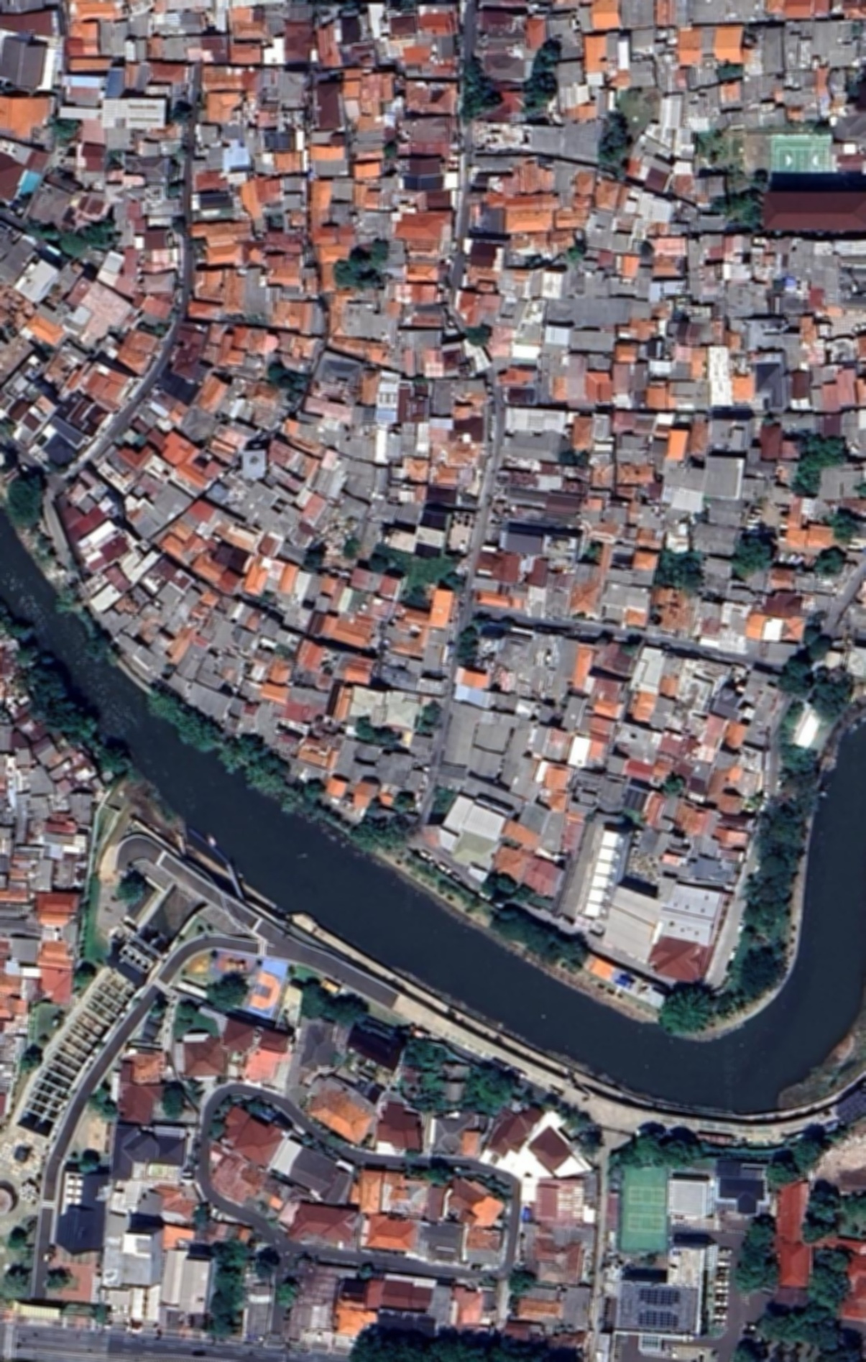building: (8, 929, 168, 1150), (496, 1112, 597, 1214), (273, 1135, 363, 1208), (302, 1071, 386, 1149), (666, 655, 730, 741), (476, 1096, 542, 1178), (53, 1167, 111, 1258), (113, 1122, 197, 1184), (601, 885, 668, 962), (618, 1280, 710, 1336), (434, 1171, 508, 1240), (215, 1105, 290, 1173), (581, 825, 633, 922), (288, 1013, 348, 1097), (368, 1099, 438, 1170), (761, 188, 866, 235), (658, 879, 729, 948), (3, 374, 65, 453), (287, 1263, 343, 1347), (198, 1145, 269, 1209), (75, 349, 141, 414), (0, 29, 65, 94), (285, 1200, 364, 1251), (527, 114, 603, 163), (54, 384, 114, 444), (346, 1017, 411, 1072), (523, 1179, 586, 1231), (14, 246, 68, 306), (432, 1112, 498, 1161), (648, 936, 712, 986), (496, 459, 587, 494), (232, 370, 298, 418), (204, 416, 260, 472), (119, 1223, 165, 1291), (79, 277, 136, 330), (716, 1158, 768, 1216), (138, 1176, 198, 1226), (165, 319, 210, 385), (235, 480, 289, 534), (113, 319, 166, 374), (26, 173, 78, 229), (462, 772, 528, 816), (546, 296, 634, 328), (647, 453, 710, 497), (37, 339, 88, 393), (744, 684, 787, 748), (0, 91, 55, 141), (440, 702, 482, 767), (497, 719, 536, 789), (164, 579, 210, 638), (531, 1238, 585, 1288), (340, 298, 400, 343), (115, 496, 170, 545), (493, 626, 533, 693), (811, 17, 863, 68), (205, 461, 255, 514), (501, 503, 580, 536), (175, 444, 227, 494), (449, 830, 498, 882), (262, 439, 319, 483), (471, 15, 528, 59), (20, 302, 70, 352), (379, 1172, 430, 1221), (398, 120, 457, 162), (467, 188, 512, 243), (361, 1214, 420, 1255), (612, 721, 664, 767), (212, 511, 265, 556), (435, 794, 475, 853), (176, 1035, 227, 1081), (309, 450, 354, 502), (101, 95, 169, 129), (476, 38, 528, 82), (439, 337, 492, 380), (114, 537, 161, 585), (627, 123, 674, 171), (775, 1178, 811, 1240), (312, 349, 365, 391), (666, 1241, 712, 1289), (46, 405, 94, 451), (761, 325, 809, 371), (348, 563, 406, 601), (241, 1272, 274, 1338), (327, 332, 393, 365), (0, 134, 53, 175), (414, 506, 452, 563), (418, 1220, 465, 1266), (670, 1173, 715, 1221), (154, 34, 228, 63), (0, 150, 35, 211), (404, 77, 460, 115), (243, 1047, 289, 1093), (143, 234, 189, 280), (464, 799, 511, 844), (809, 239, 841, 305), (385, 619, 434, 662), (332, 611, 386, 650), (569, 560, 605, 618), (383, 1274, 435, 1314), (0, 6, 63, 39), (178, 494, 224, 539), (0, 232, 39, 285), (182, 682, 231, 724), (258, 463, 307, 505), (180, 1254, 214, 1314), (264, 253, 315, 293), (150, 526, 197, 569), (340, 588, 396, 624), (755, 352, 789, 411), (175, 404, 220, 448), (685, 266, 730, 310), (521, 856, 567, 899), (190, 372, 232, 419), (503, 430, 562, 463), (495, 518, 546, 556), (504, 196, 555, 234), (151, 478, 195, 522), (335, 738, 380, 781), (70, 184, 115, 227), (383, 690, 430, 731), (394, 209, 454, 241), (0, 365, 38, 415), (334, 1307, 377, 1351), (335, 419, 379, 462), (215, 1015, 260, 1057), (341, 459, 383, 504), (116, 1083, 163, 1123), (787, 71, 826, 119), (505, 406, 569, 435), (704, 456, 746, 500), (281, 686, 327, 726), (692, 522, 743, 558), (548, 6, 583, 58), (372, 746, 414, 789), (38, 429, 81, 471), (776, 1240, 812, 1290), (155, 366, 200, 406), (189, 218, 253, 246), (475, 546, 522, 584), (525, 583, 572, 621), (369, 0, 416, 38), (121, 1047, 169, 1084), (539, 763, 575, 812), (706, 344, 734, 407), (43, 741, 87, 781), (75, 519, 119, 559), (719, 600, 751, 655), (819, 462, 864, 501), (249, 698, 284, 748), (601, 581, 654, 614), (592, 640, 638, 678), (377, 38, 435, 68), (464, 1227, 505, 1269), (475, 711, 515, 754), (632, 646, 667, 695), (313, 75, 343, 132), (400, 114, 457, 144), (474, 121, 529, 152), (710, 80, 741, 135), (417, 0, 464, 36), (690, 196, 731, 237), (218, 388, 258, 430), (202, 63, 262, 91), (531, 723, 574, 762), (755, 632, 798, 671), (690, 854, 739, 888), (782, 18, 814, 70), (657, 589, 693, 635), (450, 1285, 485, 1332), (492, 844, 532, 885), (137, 555, 177, 596), (554, 78, 597, 116), (695, 599, 727, 650), (829, 1086, 866, 1130), (423, 627, 455, 677), (140, 184, 181, 223), (709, 417, 753, 453), (359, 92, 403, 128), (513, 297, 546, 345), (822, 367, 858, 411), (431, 438, 482, 469), (303, 392, 354, 423), (60, 467, 99, 507), (118, 432, 157, 472), (66, 506, 107, 544), (712, 686, 754, 723), (635, 189, 677, 226), (242, 553, 275, 600), (584, 207, 620, 250), (512, 756, 547, 800), (297, 738, 341, 773), (333, 652, 377, 687), (161, 1248, 188, 1305), (839, 250, 866, 307), (538, 810, 572, 855), (570, 770, 604, 815), (244, 270, 274, 321), (574, 267, 619, 301), (140, 383, 180, 421), (673, 801, 710, 842), (347, 147, 389, 183), (461, 258, 503, 294), (462, 236, 506, 270), (585, 672, 630, 705), (98, 527, 137, 565), (349, 686, 385, 727), (174, 642, 210, 683), (0, 331, 36, 372), (537, 334, 572, 376), (591, 170, 625, 213), (375, 371, 403, 423), (63, 71, 104, 106), (95, 246, 130, 287), (355, 207, 397, 241), (785, 238, 819, 280), (352, 1167, 383, 1213), (195, 1220, 252, 1245), (65, 50, 114, 79), (750, 233, 779, 282), (794, 703, 824, 750), (284, 19, 316, 63), (308, 712, 346, 749), (273, 597, 312, 633), (487, 314, 518, 359), (399, 380, 432, 422), (77, 142, 110, 184), (477, 0, 519, 33), (111, 202, 141, 248), (31, 729, 69, 765), (470, 156, 509, 191), (39, 968, 73, 1008), (323, 683, 356, 724), (213, 543, 254, 576), (644, 153, 677, 194), (675, 0, 727, 26), (125, 154, 170, 184), (36, 914, 82, 943), (377, 525, 420, 556), (270, 296, 307, 332), (529, 264, 566, 300), (562, 189, 598, 226), (22, 764, 56, 803), (60, 299, 94, 338), (845, 1256, 866, 1319), (685, 413, 712, 462), (659, 730, 699, 763), (685, 762, 715, 806), (517, 1297, 564, 1325), (501, 822, 542, 854), (429, 589, 461, 630), (660, 485, 705, 514), (284, 426, 326, 457), (637, 824, 673, 860), (97, 461, 133, 497), (152, 10, 206, 34), (315, 20, 342, 68), (213, 650, 248, 687), (192, 162, 227, 199), (192, 266, 227, 303), (15, 346, 50, 383), (6, 937, 40, 975), (292, 409, 330, 443), (471, 589, 527, 612), (327, 289, 355, 335), (164, 627, 197, 666), (269, 504, 302, 543), (66, 18, 99, 57), (542, 530, 581, 563), (256, 1027, 296, 1059), (763, 589, 803, 621), (492, 81, 524, 121), (775, 234, 800, 285), (307, 178, 333, 227), (708, 497, 749, 528), (278, 68, 309, 109), (16, 709, 51, 745), (157, 430, 192, 466), (191, 550, 227, 585), (520, 156, 554, 193), (713, 321, 750, 355), (81, 309, 115, 346), (691, 169, 729, 202), (571, 643, 595, 695), (431, 34, 460, 77), (261, 126, 307, 153), (0, 279, 23, 333), (263, 227, 307, 255), (204, 90, 245, 120), (85, 767, 120, 802), (729, 316, 764, 351), (295, 638, 329, 674), (222, 268, 248, 315), (340, 37, 377, 70), (687, 232, 725, 264), (397, 324, 442, 351), (387, 281, 442, 303), (508, 230, 551, 258), (98, 18, 128, 58), (714, 23, 744, 63), (520, 666, 556, 699), (67, 0, 121, 22), (504, 192, 558, 214), (745, 22, 767, 76), (468, 748, 505, 780), (529, 631, 560, 669), (168, 470, 206, 501), (570, 327, 617, 352), (111, 1178, 141, 1217), (745, 277, 775, 316), (741, 74, 763, 127), (685, 89, 712, 132), (338, 1275, 371, 1310), (516, 800, 549, 835), (363, 70, 398, 103), (334, 490, 370, 522), (395, 174, 427, 210), (761, 26, 785, 74), (402, 302, 448, 327), (560, 692, 588, 733), (217, 335, 248, 372), (104, 115, 135, 152), (580, 483, 611, 520), (139, 130, 183, 156), (598, 776, 628, 814), (741, 667, 771, 705), (229, 10, 267, 40), (554, 158, 578, 205), (66, 757, 100, 790), (435, 761, 469, 794), (215, 567, 249, 600), (568, 346, 587, 405), (475, 632, 503, 672), (141, 452, 176, 484), (745, 447, 780, 479), (834, 108, 866, 143), (451, 684, 494, 710), (643, 119, 679, 150), (668, 380, 705, 410), (617, 315, 658, 342), (602, 603, 648, 627), (472, 150, 520, 173), (790, 494, 834, 519), (441, 1064, 469, 1103), (238, 177, 264, 219), (151, 584, 184, 617), (246, 327, 279, 360), (286, 520, 319, 553), (132, 472, 164, 506), (135, 292, 175, 319), (544, 490, 584, 517), (560, 814, 589, 851), (706, 772, 735, 809), (556, 1224, 597, 1250), (380, 667, 421, 693), (583, 34, 609, 75), (634, 252, 656, 300), (227, 625, 258, 659), (236, 350, 267, 384), (291, 570, 322, 604), (300, 296, 327, 335), (249, 405, 284, 435), (299, 492, 329, 527), (686, 305, 712, 345), (430, 1281, 454, 1324), (654, 26, 678, 69), (671, 157, 695, 200), (563, 1288, 590, 1326), (204, 241, 245, 266), (499, 266, 531, 298), (834, 140, 866, 172), (110, 269, 143, 300), (391, 346, 424, 377), (742, 610, 772, 644), (624, 147, 654, 181), (729, 371, 758, 406), (425, 1184, 451, 1223), (314, 238, 353, 264), (677, 26, 703, 65), (495, 366, 539, 389), (46, 834, 88, 858), (555, 638, 579, 680), (191, 189, 233, 213), (272, 148, 308, 176), (617, 464, 657, 489), (139, 270, 179, 295), (40, 942, 77, 969), (271, 731, 303, 762), (664, 835, 693, 869), (382, 652, 423, 676), (149, 60, 190, 84), (700, 714, 728, 749), (586, 370, 614, 405), (648, 695, 675, 731), (56, 259, 83, 295), (406, 238, 448, 261), (454, 665, 491, 691), (265, 559, 291, 596), (119, 245, 145, 282), (456, 289, 482, 326), (654, 55, 680, 92), (114, 592, 145, 623), (274, 626, 306, 656), (147, 118, 187, 142), (54, 860, 87, 889), (67, 793, 96, 826), (689, 831, 722, 860), (736, 745, 769, 774), (627, 690, 656, 723), (367, 496, 400, 525), (630, 211, 663, 240), (621, 0, 655, 28), (618, 182, 646, 216), (552, 1328, 590, 1353), (198, 608, 225, 643), (404, 423, 431, 458), (89, 584, 120, 614), (326, 195, 356, 226), (719, 720, 748, 752), (104, 563, 133, 595), (765, 567, 797, 596), (699, 555, 736, 580), (353, 779, 381, 812), (631, 502, 664, 530), (650, 755, 677, 789), (587, 732, 611, 770), (186, 297, 224, 321), (38, 893, 81, 914), (549, 677, 570, 720), (505, 486, 548, 507), (816, 1235, 866, 1253), (643, 793, 668, 829), (622, 785, 652, 815), (277, 101, 307, 131), (140, 602, 172, 630), (255, 174, 283, 206), (416, 347, 444, 379), (354, 177, 381, 210), (583, 246, 616, 273), (568, 735, 594, 769), (840, 597, 866, 631), (406, 261, 448, 282), (432, 378, 455, 416), (104, 609, 134, 638), (222, 142, 251, 172), (591, 0, 620, 30), (735, 768, 763, 799), (163, 1226, 195, 1253), (506, 1322, 554, 1340), (195, 142, 227, 169), (549, 558, 576, 590), (718, 76, 745, 108), (782, 414, 823, 435), (312, 501, 338, 534), (583, 521, 622, 543), (499, 165, 525, 198), (726, 0, 765, 22), (661, 92, 684, 129), (671, 343, 694, 380), (425, 484, 459, 509), (253, 147, 282, 176), (629, 57, 657, 87), (260, 679, 291, 706), (293, 333, 324, 360), (801, 335, 828, 366), (713, 827, 751, 849), (394, 607, 432, 629), (359, 369, 381, 407), (525, 556, 551, 588), (727, 280, 753, 312), (229, 40, 262, 65), (653, 253, 686, 278), (775, 290, 808, 315), (791, 371, 812, 410), (431, 466, 474, 485), (402, 173, 445, 192), (401, 156, 444, 175), (449, 418, 483, 442), (124, 60, 150, 91), (263, 0, 286, 35), (302, 609, 327, 641), (242, 124, 267, 156), (263, 249, 301, 270), (262, 67, 284, 103), (339, 13, 363, 46), (479, 292, 503, 325), (673, 122, 695, 158), (168, 569, 196, 597), (81, 569, 109, 597), (57, 502, 85, 530), (557, 58, 585, 86), (166, 672, 195, 699), (573, 416, 596, 450), (697, 53, 720, 87), (631, 26, 657, 56), (594, 697, 625, 722), (243, 448, 268, 479), (59, 102, 102, 120), (211, 621, 235, 653), (0, 0, 59, 13), (718, 810, 756, 830), (742, 479, 775, 502), (660, 796, 681, 832), (652, 277, 688, 298), (279, 541, 308, 567), (194, 120, 223, 146), (342, 95, 368, 124), (278, 564, 300, 598), (666, 429, 688, 463), (654, 235, 688, 257), (689, 260, 723, 282), (154, 0, 216, 12), (800, 590, 831, 614), (310, 158, 349, 177), (845, 643, 866, 678), (166, 517, 194, 543), (290, 485, 316, 513), (401, 480, 429, 506), (646, 380, 670, 410), (565, 101, 599, 122), (48, 812, 80, 834), (279, 717, 311, 739), (524, 16, 546, 48), (0, 917, 37, 936), (381, 172, 400, 209), (713, 749, 739, 776), (127, 584, 154, 610), (97, 494, 123, 521), (544, 322, 571, 348), (0, 219, 18, 258), (113, 632, 141, 657), (122, 612, 147, 640), (807, 525, 835, 550), (334, 220, 359, 248), (680, 63, 705, 91), (375, 424, 392, 465), (625, 759, 654, 783), (590, 715, 619, 739), (194, 669, 223, 693), (167, 401, 191, 430), (128, 8, 152, 37), (608, 272, 638, 295), (329, 579, 348, 615), (502, 387, 538, 406), (309, 129, 347, 147), (606, 30, 625, 66), (667, 523, 689, 554), (574, 166, 596, 197), (761, 426, 781, 460), (352, 128, 386, 148), (2, 1037, 28, 1063), (268, 659, 293, 686), (133, 402, 160, 427), (257, 533, 282, 560), (81, 117, 105, 145), (311, 221, 339, 245), (759, 72, 783, 100), (759, 103, 787, 127), (68, 274, 89, 306), (2, 997, 31, 1020), (717, 793, 746, 816), (637, 528, 666, 551), (257, 99, 280, 128), (423, 188, 452, 211), (690, 345, 709, 380), (11, 845, 44, 865), (342, 69, 364, 99), (280, 353, 311, 374), (132, 645, 158, 670), (83, 550, 108, 576), (239, 679, 266, 703), (473, 568, 500, 592), (675, 194, 699, 221), (262, 37, 285, 65), (654, 875, 676, 904), (286, 0, 315, 22), (524, 1285, 559, 1303), (548, 229, 578, 250), (783, 0, 816, 19), (833, 0, 866, 19), (147, 632, 172, 657), (149, 652, 173, 678), (136, 619, 160, 645), (404, 456, 428, 482), (331, 176, 355, 202), (796, 566, 820, 592), (610, 229, 636, 253), (615, 253, 639, 279), (292, 666, 319, 689), (592, 463, 615, 490), (829, 337, 856, 360), (372, 465, 392, 496), (105, 67, 125, 98), (511, 341, 542, 361), (700, 26, 720, 57), (144, 228, 172, 250), (605, 497, 627, 525), (616, 448, 650, 466), (554, 208, 583, 229), (243, 87, 259, 125), (325, 774, 349, 799), (417, 677, 447, 697), (106, 452, 131, 476), (781, 618, 806, 642), (124, 35, 148, 60), (241, 241, 265, 266), (631, 297, 657, 320), (819, 297, 845, 320), (633, 550, 660, 572), (310, 144, 347, 160), (366, 1280, 385, 1311), (612, 362, 631, 393), (30, 795, 51, 823), (387, 239, 408, 267), (128, 1288, 146, 1320), (614, 339, 638, 363), (693, 743, 718, 766), (589, 443, 614, 466), (107, 1288, 137, 1307), (777, 460, 798, 487), (386, 427, 403, 460), (833, 240, 866, 257), (607, 1191, 621, 1231), (598, 541, 612, 581), (814, 67, 830, 102), (594, 86, 612, 117), (722, 262, 753, 280), (607, 753, 630, 777), (656, 316, 680, 339), (621, 433, 650, 452), (318, 262, 337, 291), (662, 654, 684, 679), (260, 618, 282, 643), (317, 571, 339, 596), (282, 173, 307, 195), (404, 769, 425, 795), (224, 599, 245, 625), (612, 412, 638, 433), (276, 285, 310, 301), (492, 692, 519, 712), (780, 86, 807, 106), (592, 414, 611, 442), (409, 735, 432, 758), (144, 1286, 160, 1319), (199, 587, 221, 611), (184, 532, 206, 556), (454, 379, 487, 395), (577, 0, 593, 33), (612, 391, 645, 407), (639, 337, 663, 359), (280, 189, 305, 210), (587, 351, 612, 372), (801, 96, 821, 122), (811, 365, 837, 385), (839, 495, 866, 514), (8, 729, 30, 752), (515, 697, 537, 720), (129, 414, 152, 436), (144, 427, 167, 449), (246, 610, 267, 634), (221, 120, 245, 141), (631, 363, 649, 391), (236, 605, 256, 630), (762, 617, 782, 642), (655, 0, 674, 26), (672, 761, 694, 783), (251, 647, 273, 669), (659, 676, 680, 699), (618, 32, 631, 69), (23, 978, 43, 1002), (214, 0, 229, 32), (28, 821, 47, 846), (422, 823, 441, 848), (233, 325, 252, 350), (320, 614, 339, 639), (822, 414, 841, 439), (1, 1020, 30, 1036), (717, 847, 746, 863), (39, 859, 53, 892), (533, 702, 554, 724), (633, 414, 655, 435), (824, 650, 844, 673), (206, 323, 226, 346), (284, 208, 307, 228), (352, 404, 375, 424), (551, 376, 568, 403), (1, 973, 20, 997), (7, 694, 31, 713), (313, 593, 332, 617), (800, 316, 819, 340), (451, 405, 483, 419), (655, 295, 672, 321), (191, 602, 212, 623), (77, 495, 98, 516), (215, 593, 235, 615), (787, 528, 809, 548), (728, 234, 750, 254), (622, 524, 641, 547), (596, 1332, 611, 1361), (2, 1064, 17, 1093), (15, 818, 31, 845), (615, 483, 639, 501), (632, 569, 656, 587), (123, 184, 148, 201), (200, 654, 220, 675), (276, 332, 296, 353), (781, 440, 801, 461), (129, 215, 150, 235), (610, 67, 631, 87), (616, 209, 636, 230), (1, 904, 33, 917), (12, 867, 38, 883), (16, 767, 32, 793), (541, 368, 553, 402), (147, 214, 176, 228), (605, 1231, 620, 1258), (225, 168, 250, 184), (809, 284, 825, 309), (105, 165, 126, 184), (821, 97, 842, 116), (146, 37, 164, 59), (203, 345, 220, 368), (649, 358, 672, 375), (16, 793, 32, 817), (55, 777, 74, 797), (14, 748, 33, 768), (249, 665, 268, 685), (222, 714, 241, 734), (13, 702, 34, 720), (228, 698, 246, 719), (128, 0, 155, 14), (0, 725, 15, 750), (1, 890, 35, 901), (855, 372, 866, 406), (830, 71, 846, 94), (455, 395, 488, 406), (183, 616, 203, 634), (811, 0, 832, 17), (123, 171, 145, 187), (586, 1177, 598, 1206), (8, 779, 20, 808), (606, 1263, 624, 1282), (100, 608, 119, 626), (105, 180, 123, 199), (1, 796, 13, 824), (191, 635, 212, 651), (604, 1280, 621, 1299), (647, 483, 662, 504), (765, 0, 786, 15), (811, 385, 823, 411), (121, 428, 139, 445), (786, 513, 804, 530), (387, 262, 405, 279), (51, 796, 70, 812), (376, 792, 395, 808), (316, 673, 332, 692), (653, 423, 672, 439), (126, 201, 142, 220), (655, 411, 675, 426), (586, 71, 606, 86), (123, 469, 139, 487), (855, 333, 866, 359), (651, 439, 668, 455), (430, 418, 452, 430), (789, 71, 804, 87), (757, 319, 781, 329), (259, 638, 277, 651), (429, 430, 450, 441), (6, 758, 18, 776), (856, 408, 866, 429), (585, 1208, 598, 1224), (242, 704, 258, 717), (0, 754, 8, 777), (724, 235, 732, 258), (744, 706, 756, 721), (1, 840, 12, 856), (1, 856, 11, 873), (0, 874, 10, 890), (785, 71, 795, 87), (1, 827, 14, 839), (0, 777, 6, 792)
tree: (482, 897, 593, 978), (138, 679, 229, 760), (24, 673, 110, 753), (724, 928, 795, 1012), (750, 795, 817, 870), (206, 1238, 252, 1340), (440, 55, 504, 125), (727, 1213, 781, 1295), (458, 1055, 524, 1121), (548, 1094, 612, 1161), (610, 1128, 706, 1171), (739, 876, 797, 946), (756, 1301, 839, 1348), (788, 430, 841, 502), (776, 745, 828, 818), (237, 743, 298, 803), (748, 836, 803, 902), (68, 602, 121, 670), (592, 108, 639, 183), (329, 241, 393, 295), (658, 981, 716, 1039), (805, 663, 858, 726), (258, 353, 314, 406), (398, 1029, 455, 1081), (56, 219, 121, 264), (726, 526, 781, 579), (808, 1247, 852, 1310), (201, 964, 253, 1016), (19, 650, 68, 705), (713, 182, 764, 234), (2, 470, 45, 530), (431, 870, 485, 917), (213, 727, 262, 777), (655, 547, 707, 594), (529, 37, 560, 115), (106, 862, 155, 911), (806, 538, 855, 587), (776, 651, 819, 701), (820, 503, 866, 549), (359, 1331, 427, 1362), (350, 715, 403, 754), (320, 989, 371, 1029), (366, 540, 414, 582), (349, 816, 408, 850), (806, 1183, 839, 1243), (787, 1131, 828, 1176), (83, 1081, 122, 1128), (486, 1337, 557, 1362), (773, 700, 803, 758), (760, 1149, 802, 1190), (277, 781, 321, 820), (429, 1334, 490, 1362), (500, 1260, 541, 1301), (22, 527, 62, 568), (400, 571, 437, 613), (268, 1272, 307, 1311), (401, 851, 442, 888), (480, 1167, 519, 1205), (817, 1331, 864, 1362), (482, 869, 520, 907), (412, 1072, 448, 1112), (802, 621, 834, 663), (299, 977, 329, 1021), (11, 1042, 47, 1078), (95, 740, 131, 776), (8, 637, 43, 672), (809, 436, 847, 466), (841, 1191, 866, 1236), (67, 958, 99, 992), (45, 114, 80, 145), (252, 1244, 282, 1280), (300, 539, 330, 575), (715, 984, 744, 1021), (0, 1264, 29, 1300), (562, 236, 594, 268), (455, 624, 479, 666), (160, 1082, 187, 1119), (439, 566, 471, 597), (171, 998, 194, 1041), (73, 1146, 104, 1177), (23, 219, 63, 243), (416, 699, 443, 734), (659, 770, 689, 800), (731, 1337, 766, 1362), (822, 1119, 852, 1148), (415, 1164, 452, 1187), (509, 880, 538, 909), (429, 785, 454, 818), (167, 97, 195, 126), (165, 164, 187, 200), (144, 312, 172, 339), (338, 531, 363, 561), (57, 582, 82, 611), (208, 1110, 229, 1142), (44, 1267, 71, 1291), (242, 1095, 269, 1119), (2, 615, 29, 639), (463, 324, 491, 347), (183, 1076, 205, 1104), (192, 1199, 213, 1227), (6, 1227, 29, 1252), (148, 996, 170, 1021), (393, 791, 416, 814), (383, 128, 398, 161), (468, 607, 491, 628), (0, 412, 14, 446), (92, 1302, 111, 1326), (365, 793, 384, 817), (538, 1090, 559, 1110), (169, 214, 187, 236), (337, 0, 362, 15), (356, 1263, 374, 1279), (35, 1031, 50, 1045)
